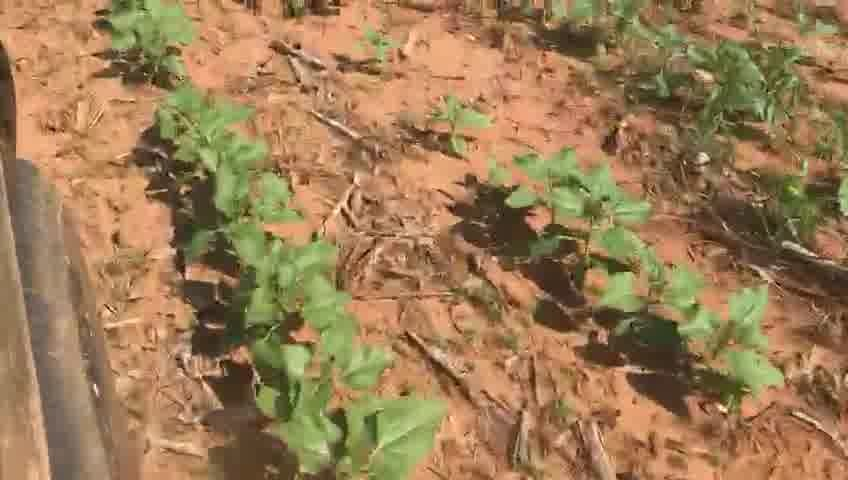sunflower: (188, 215, 368, 321), (264, 392, 442, 476), (670, 280, 783, 405), (547, 169, 666, 284), (226, 315, 395, 395), (480, 146, 599, 245), (585, 231, 693, 339), (168, 151, 307, 228), (144, 87, 266, 159), (98, 4, 206, 85), (421, 96, 495, 154), (347, 23, 403, 70)
